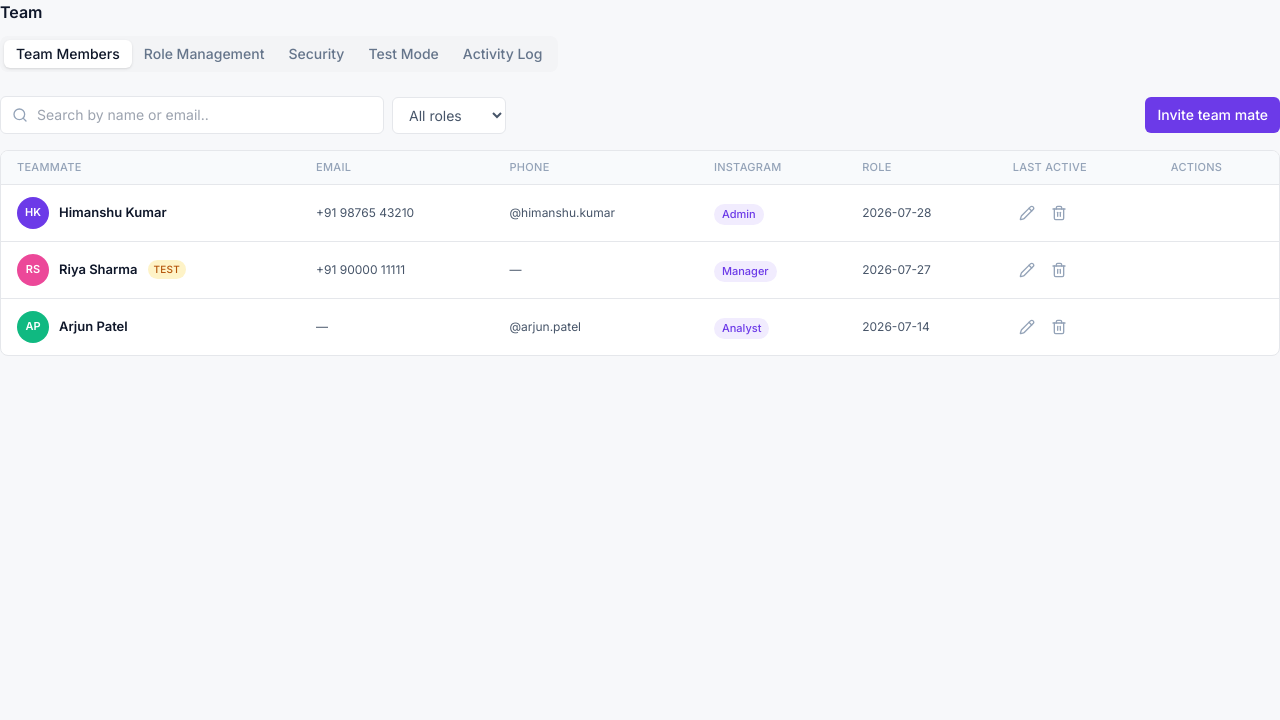
Test: TeamManagementPanel › an invited member appears in the Team Members table
Click the button with test id "team-invite-btn" at (1213, 115), box [1146, 97, 1279, 133]
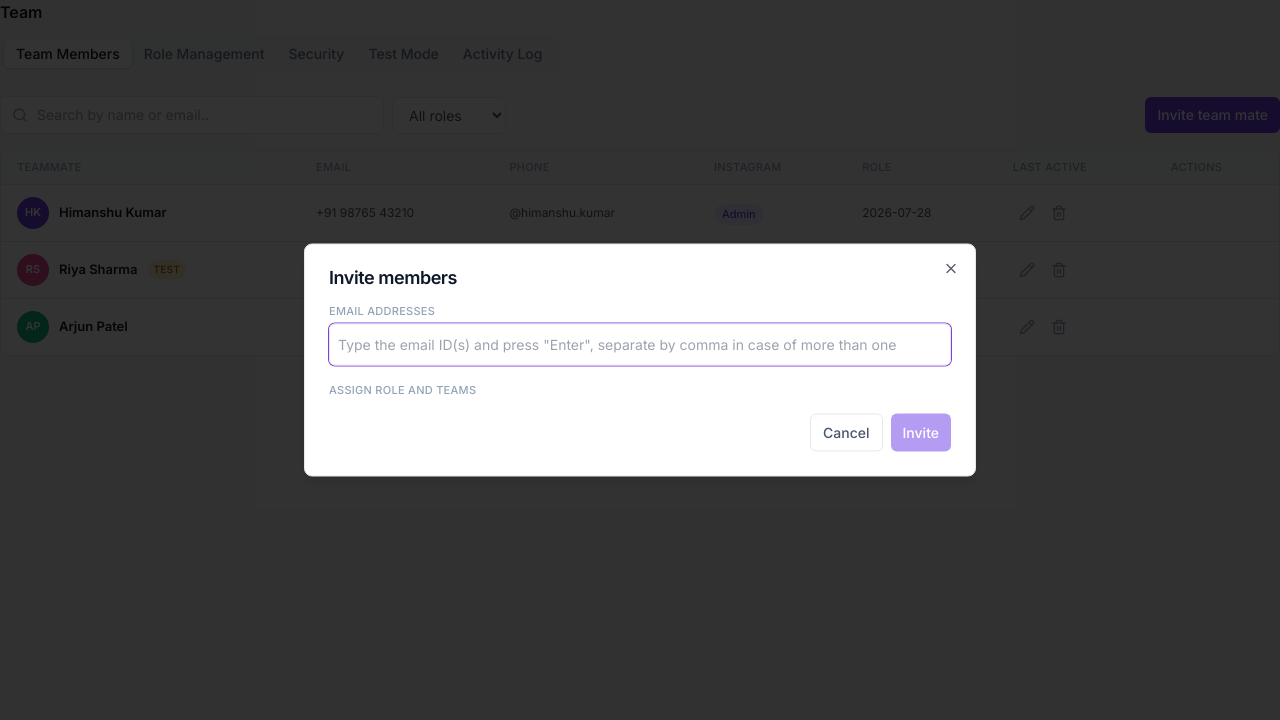
Replace the text in the field with test id "invite-modal-emails-input" with "grace@x.com" at (640, 344), box [338, 332, 942, 356]
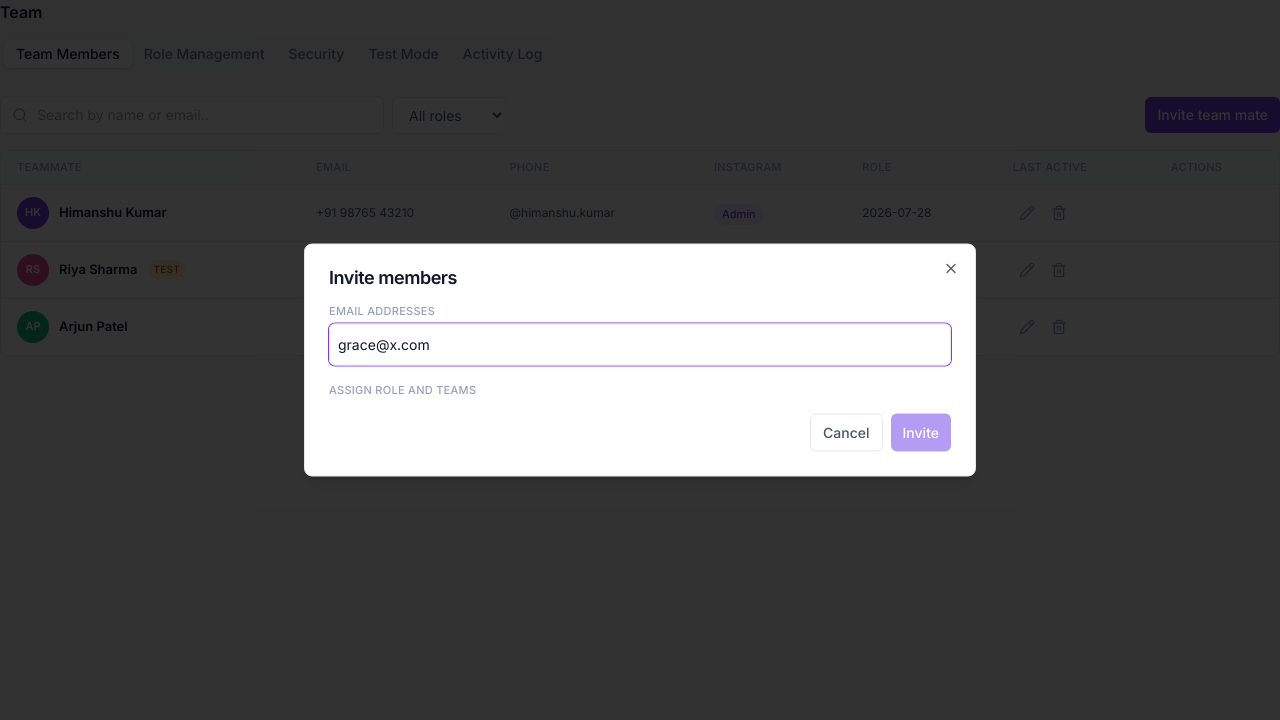
Press Enter in the field with test id "invite-modal-emails-input", box [338, 332, 942, 356]
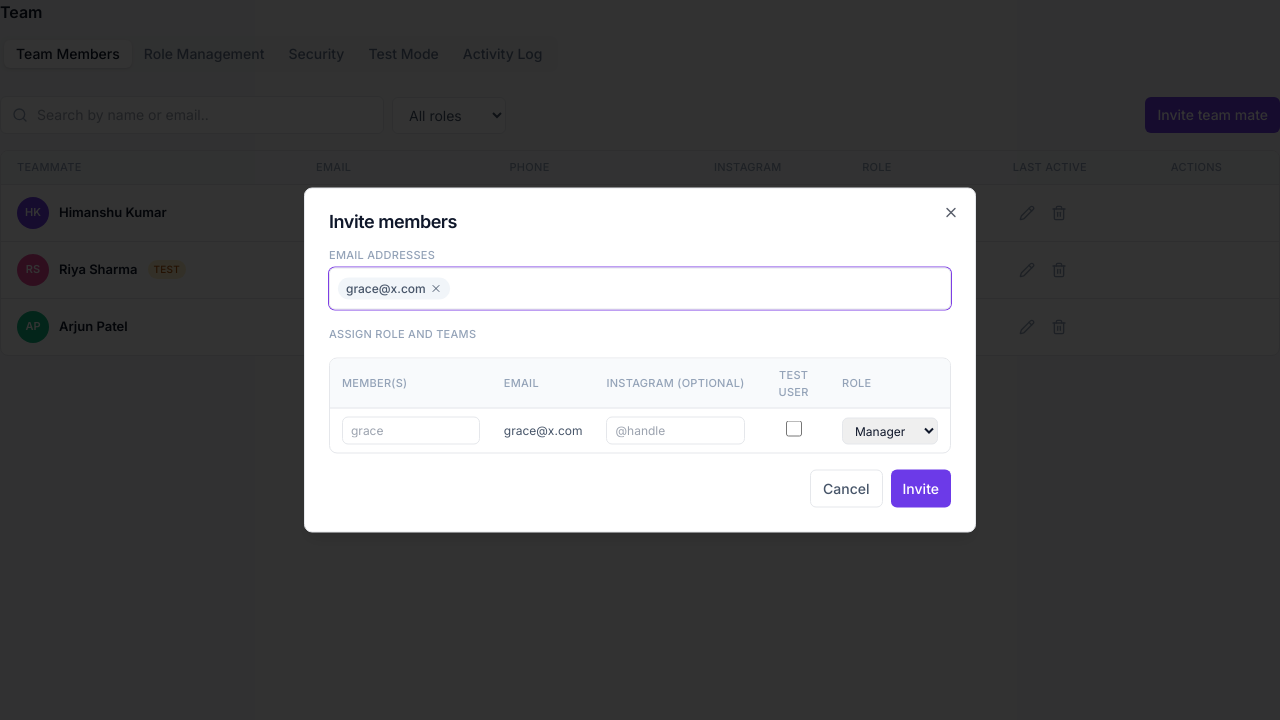
Click the button with test id "invite-modal-submit" at (921, 488), box [890, 470, 951, 508]
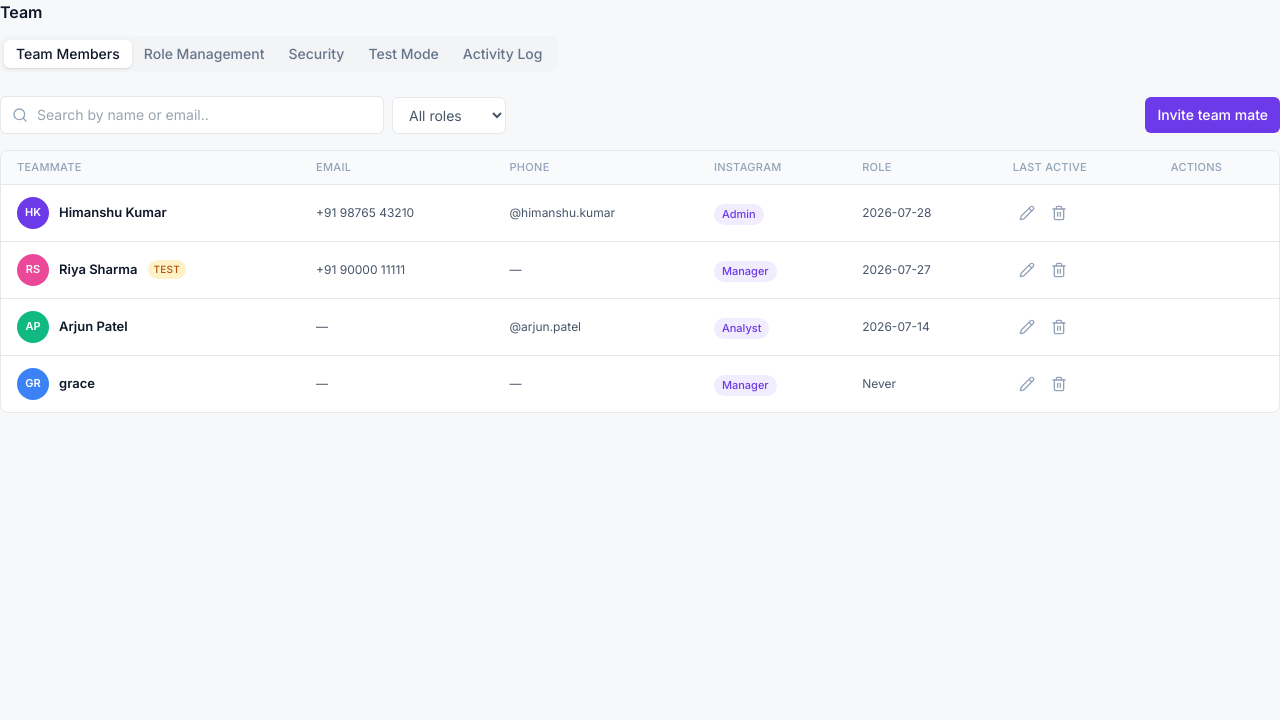
expect the row with test id "team-member-row-grace@x.com" is shown: met, box [1, 355, 1279, 412]
